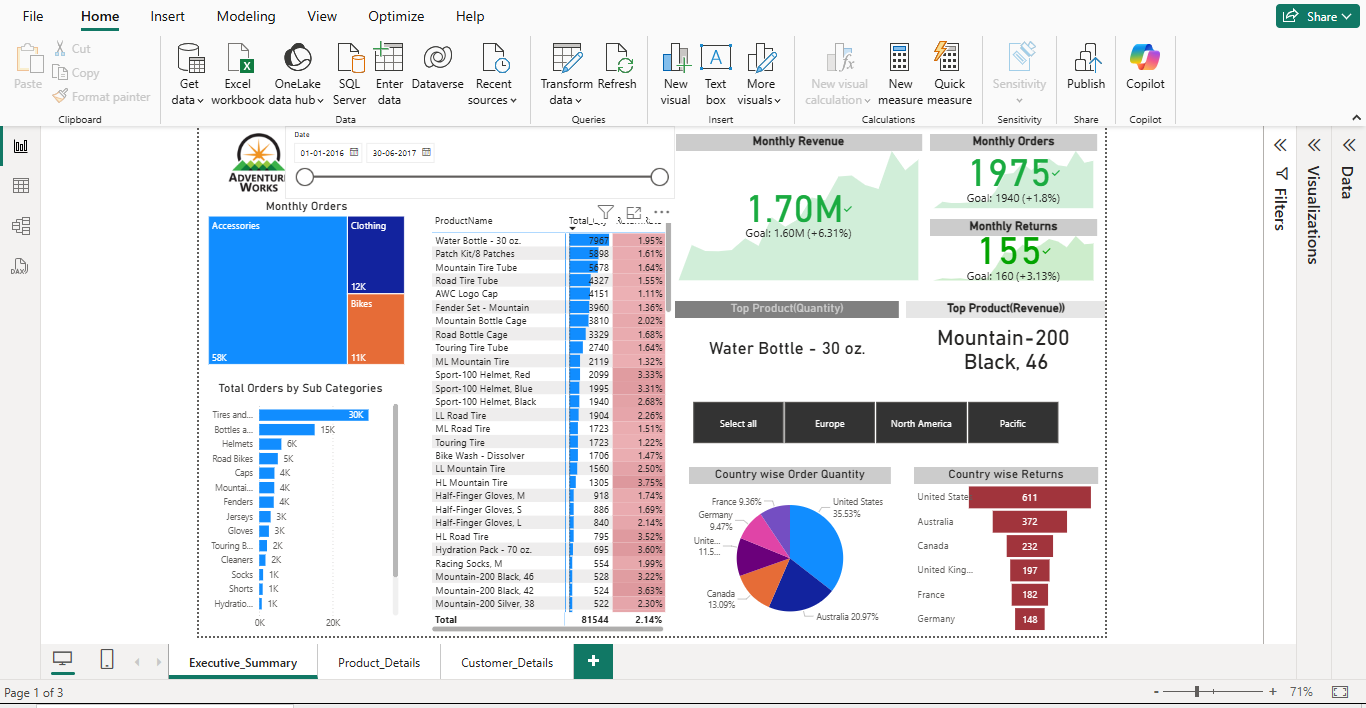

The page's visual inventory and layout, read from the dashboard file:
{"tool":"powerbi","page":{"name":"Executive_Summary","canvas":[1280,720],"ordinal":0},"visuals":[{"type":"image","box":[10.1,0,147.8,102.5],"z":0},{"type":"treemap","title":"Monthly Orders","fields":{"Group":["Product_Categories.CategoryName"],"Values":["Sum(AW_sales.OrderQuantity)"]},"box":[8.5,103.1,286.6,238.6],"z":1000},{"type":"barChart","title":"Total Orders by Sub Categories","fields":{"Category":["Product_Subcategories.SubcategoryName"],"Y":["Sum(AW_sales.OrderQuantity)"]},"box":[0,360,286.6,360],"z":2000},{"type":"pivotTable","fields":{"Rows":["Products_Lookup.ProductName"],"Values":["AW_sales.Total_Qty","Returns.ReturnRate"]},"box":[323.3,118.6,348.7,601.4],"z":3000},{"type":"kpi","title":"Monthly Revenue","fields":{"Indicator":["AW_sales.Total_Revenue"],"TrendLine":["Calendar_Lookup.Start of Month"],"Goal":["AW_sales.PrevMonthRev"]},"box":[672,11.3,348.7,211.8],"z":4000},{"type":"kpi","title":"Monthly Orders","fields":{"Goal":["AW_sales.PrevMonthOrders"],"TrendLine":["Calendar_Lookup.Start of Month"],"Indicator":["AW_sales.Total_Order"]},"box":[1032,11.3,235.8,110.1],"z":5000},{"type":"kpi","title":"Monthly Returns","fields":{"Goal":["Returns.PrevMonthReturns"],"TrendLine":["Calendar_Lookup.Start of Month"],"Indicator":["Returns.Quantity_Returned"]},"box":[1032,131.3,235.8,91.8],"z":6000},{"type":"card","title":"Top Product(Quantity)","fields":{"Values":["Min(Products_Lookup.ProductName)"]},"box":[672,247.1,316.2,112.9],"z":7000},{"type":"card","title":"Top Product(Revenue))","fields":{"Values":["Min(Products_Lookup.ProductName)"]},"box":[998.1,247.1,282.4,112.9],"z":8000},{"type":"slicer","fields":{"Values":["Calendar_Lookup.Date"]},"box":[121.4,0,550.6,103.1],"z":9000},{"type":"pieChart","title":"Country wise Order Quantity","fields":{"Category":["Territories_Lookup.Country"],"Y":["AW_sales.Total_Qty"]},"box":[691.8,481.4,285.2,238.6],"z":10000},{"type":"slicer","fields":{"Values":["Territories_Lookup.Continent"]},"box":[672,382.6,564.7,72],"z":11000},{"type":"funnel","title":"Country wise Returns","fields":{"Category":["Territories_Lookup.Country"],"Y":["Sum(Returns.ReturnQuantity)"]},"box":[1009.4,481.4,259.8,238.6],"z":12000}]}

Visuals, with their boxes on the page's 1280x720 design canvas (x1, y1, x2, y2). These are canvas units, not pixel positions in the 1366x708 screenshot, which may show the page scaled, cropped or inside an application window:
image: [10, 0, 158, 102]
"Monthly Orders" treemap: [8, 103, 295, 342]
"Total Orders by Sub Categories" barChart: [0, 360, 287, 720]
pivotTable - Products_Lookup.ProductName x AW_sales.Total_Qty: [323, 119, 672, 720]
"Monthly Revenue" kpi: [672, 11, 1021, 223]
"Monthly Orders" kpi: [1032, 11, 1268, 121]
"Monthly Returns" kpi: [1032, 131, 1268, 223]
"Top Product(Quantity)" card: [672, 247, 988, 360]
"Top Product(Revenue))" card: [998, 247, 1280, 360]
slicer - Calendar_Lookup.Date: [121, 0, 672, 103]
"Country wise Order Quantity" pieChart: [692, 481, 977, 720]
slicer - Territories_Lookup.Continent: [672, 383, 1237, 455]
"Country wise Returns" funnel: [1009, 481, 1269, 720]
